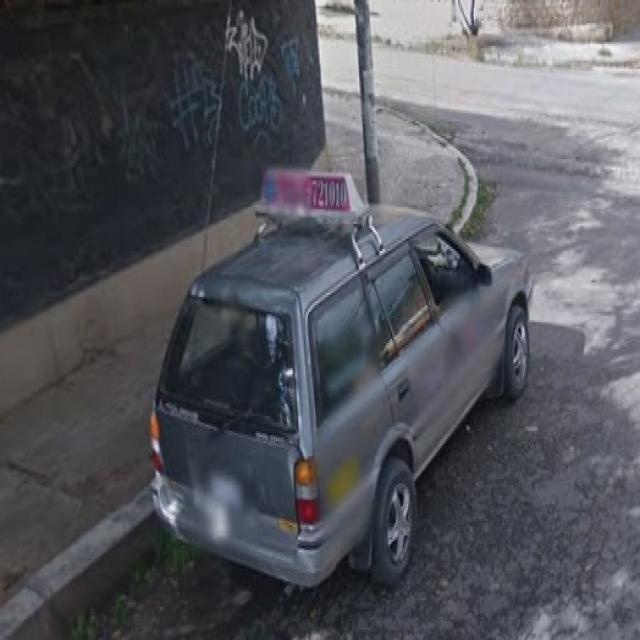Car: (157, 217, 527, 595)
